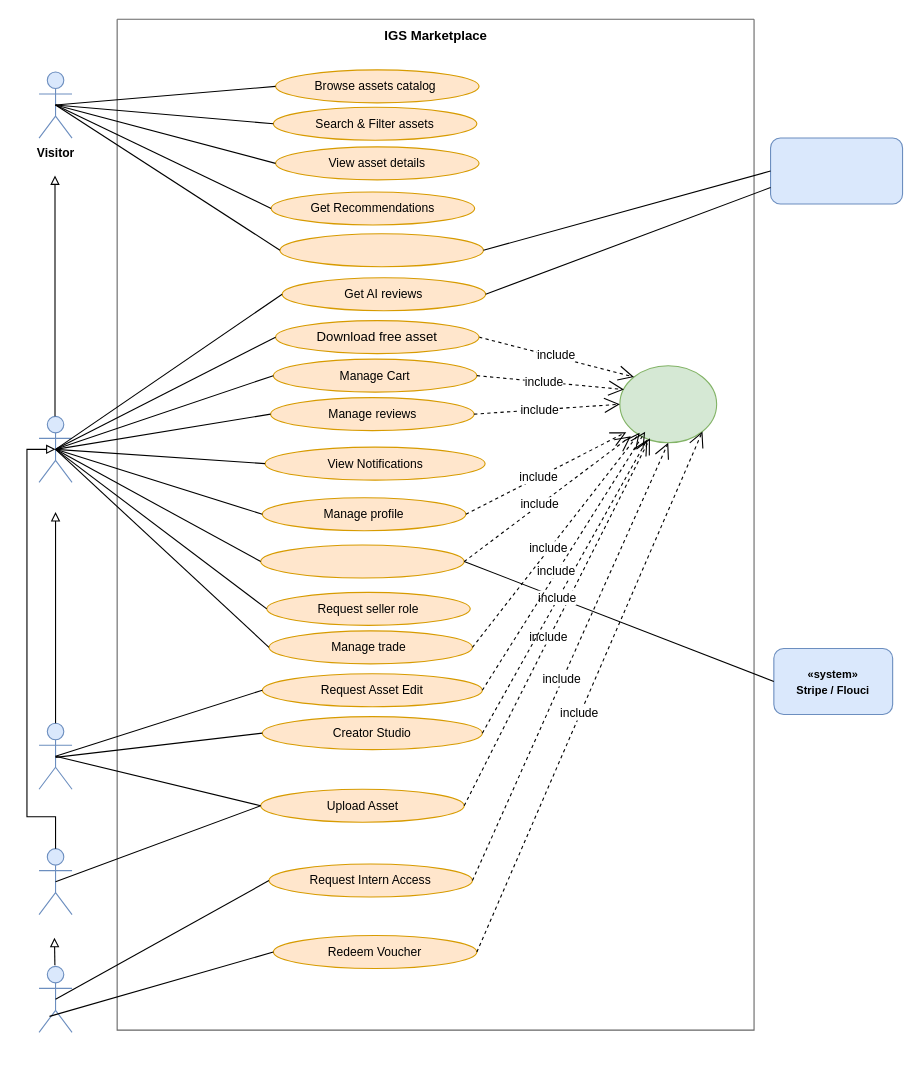
The diagram is 922 pixels wide and 1075 high, and some of its shapes have lost their labels. Here are the shapes that lost their labels. From the top down, the centre of each, then its label:
At point 836,170: "«system» HF inference".
At point 381,250: "Chat with AI Bot".
At point 668,404: "Authenticate".
At point 55,448: "Member".
At point 362,561: "Checkout".
At point 55,755: "Seller".
At point 55,881: "Internal user".
At point 55,998: "Intern".
